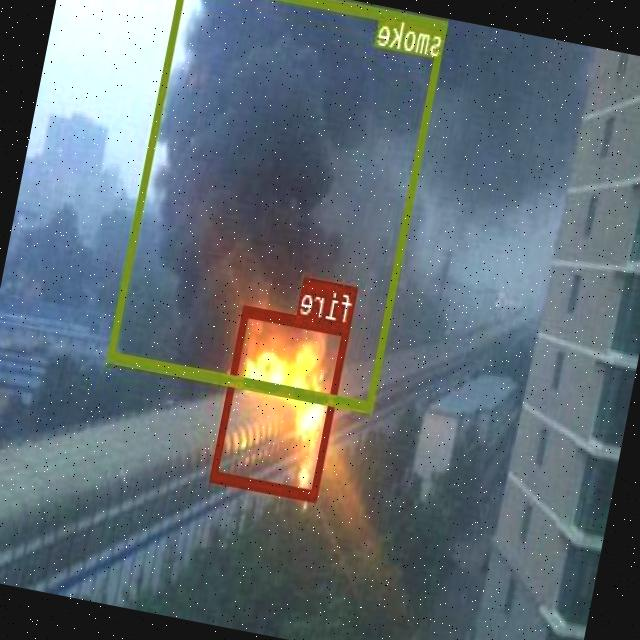fire: (211, 304, 352, 501)
smoke: (109, 0, 450, 410)
